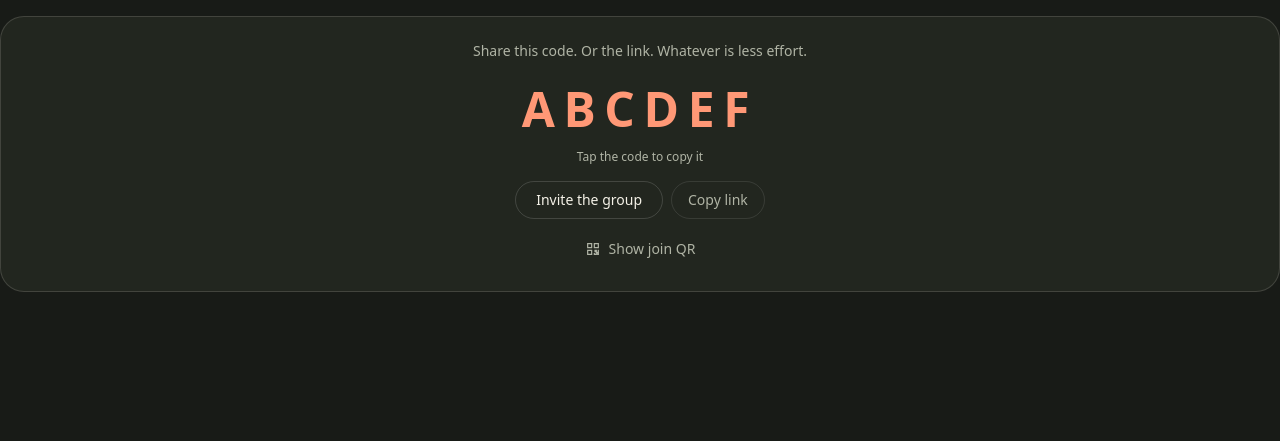
Scenario: a blocked invite copy leaves a selectable link and an immediate retry
Click the button "Copy link".
click(718, 200)  # box [671,181,765,219]
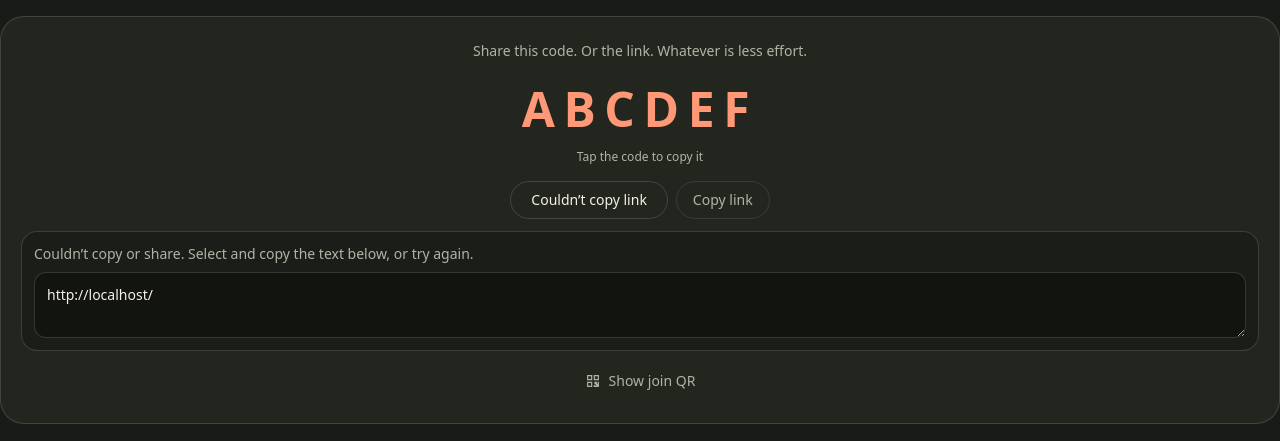
Click the button "Copy link".
click(723, 200)  # box [676,181,770,219]
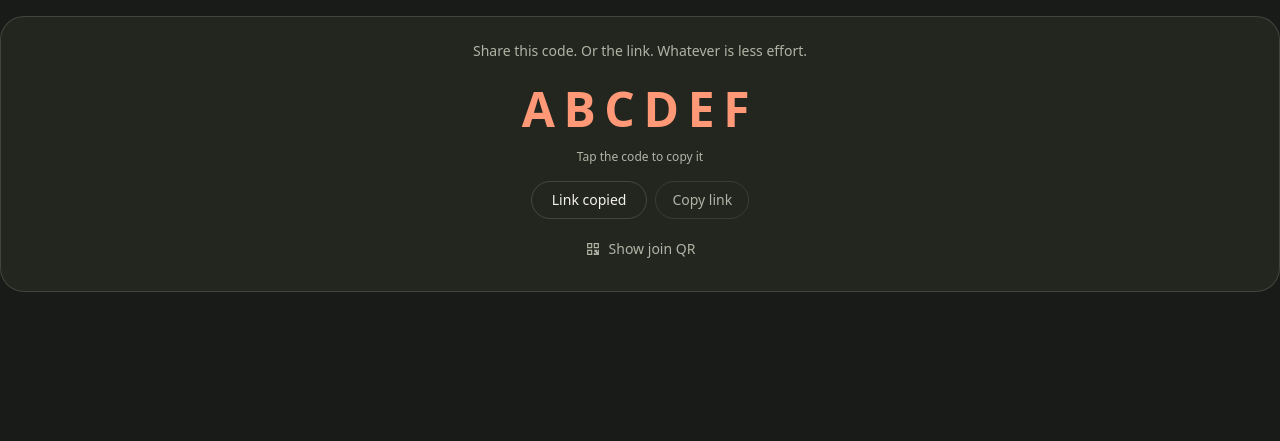
expect the button "Link copied" is shown: met, box [531,181,647,219]
